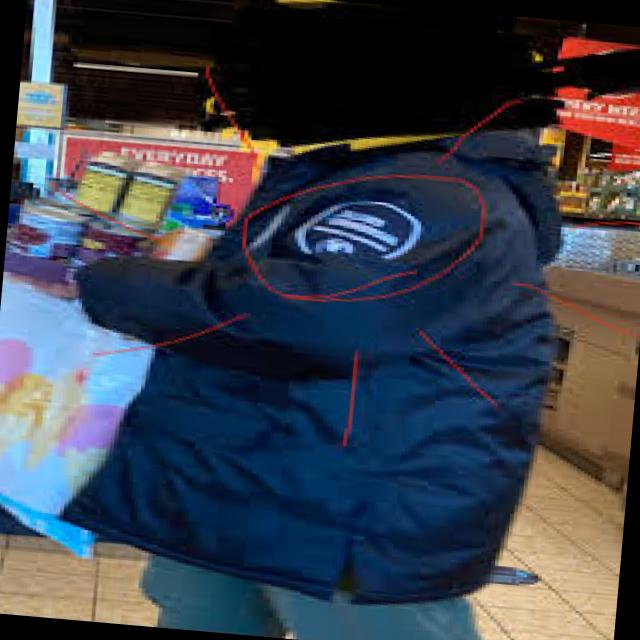Jacket: (95, 136, 559, 592)
